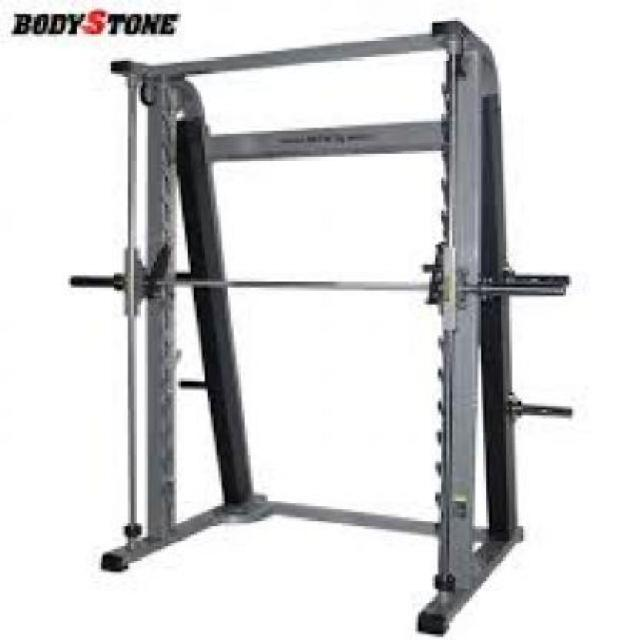smith machine: (112, 37, 576, 635)
